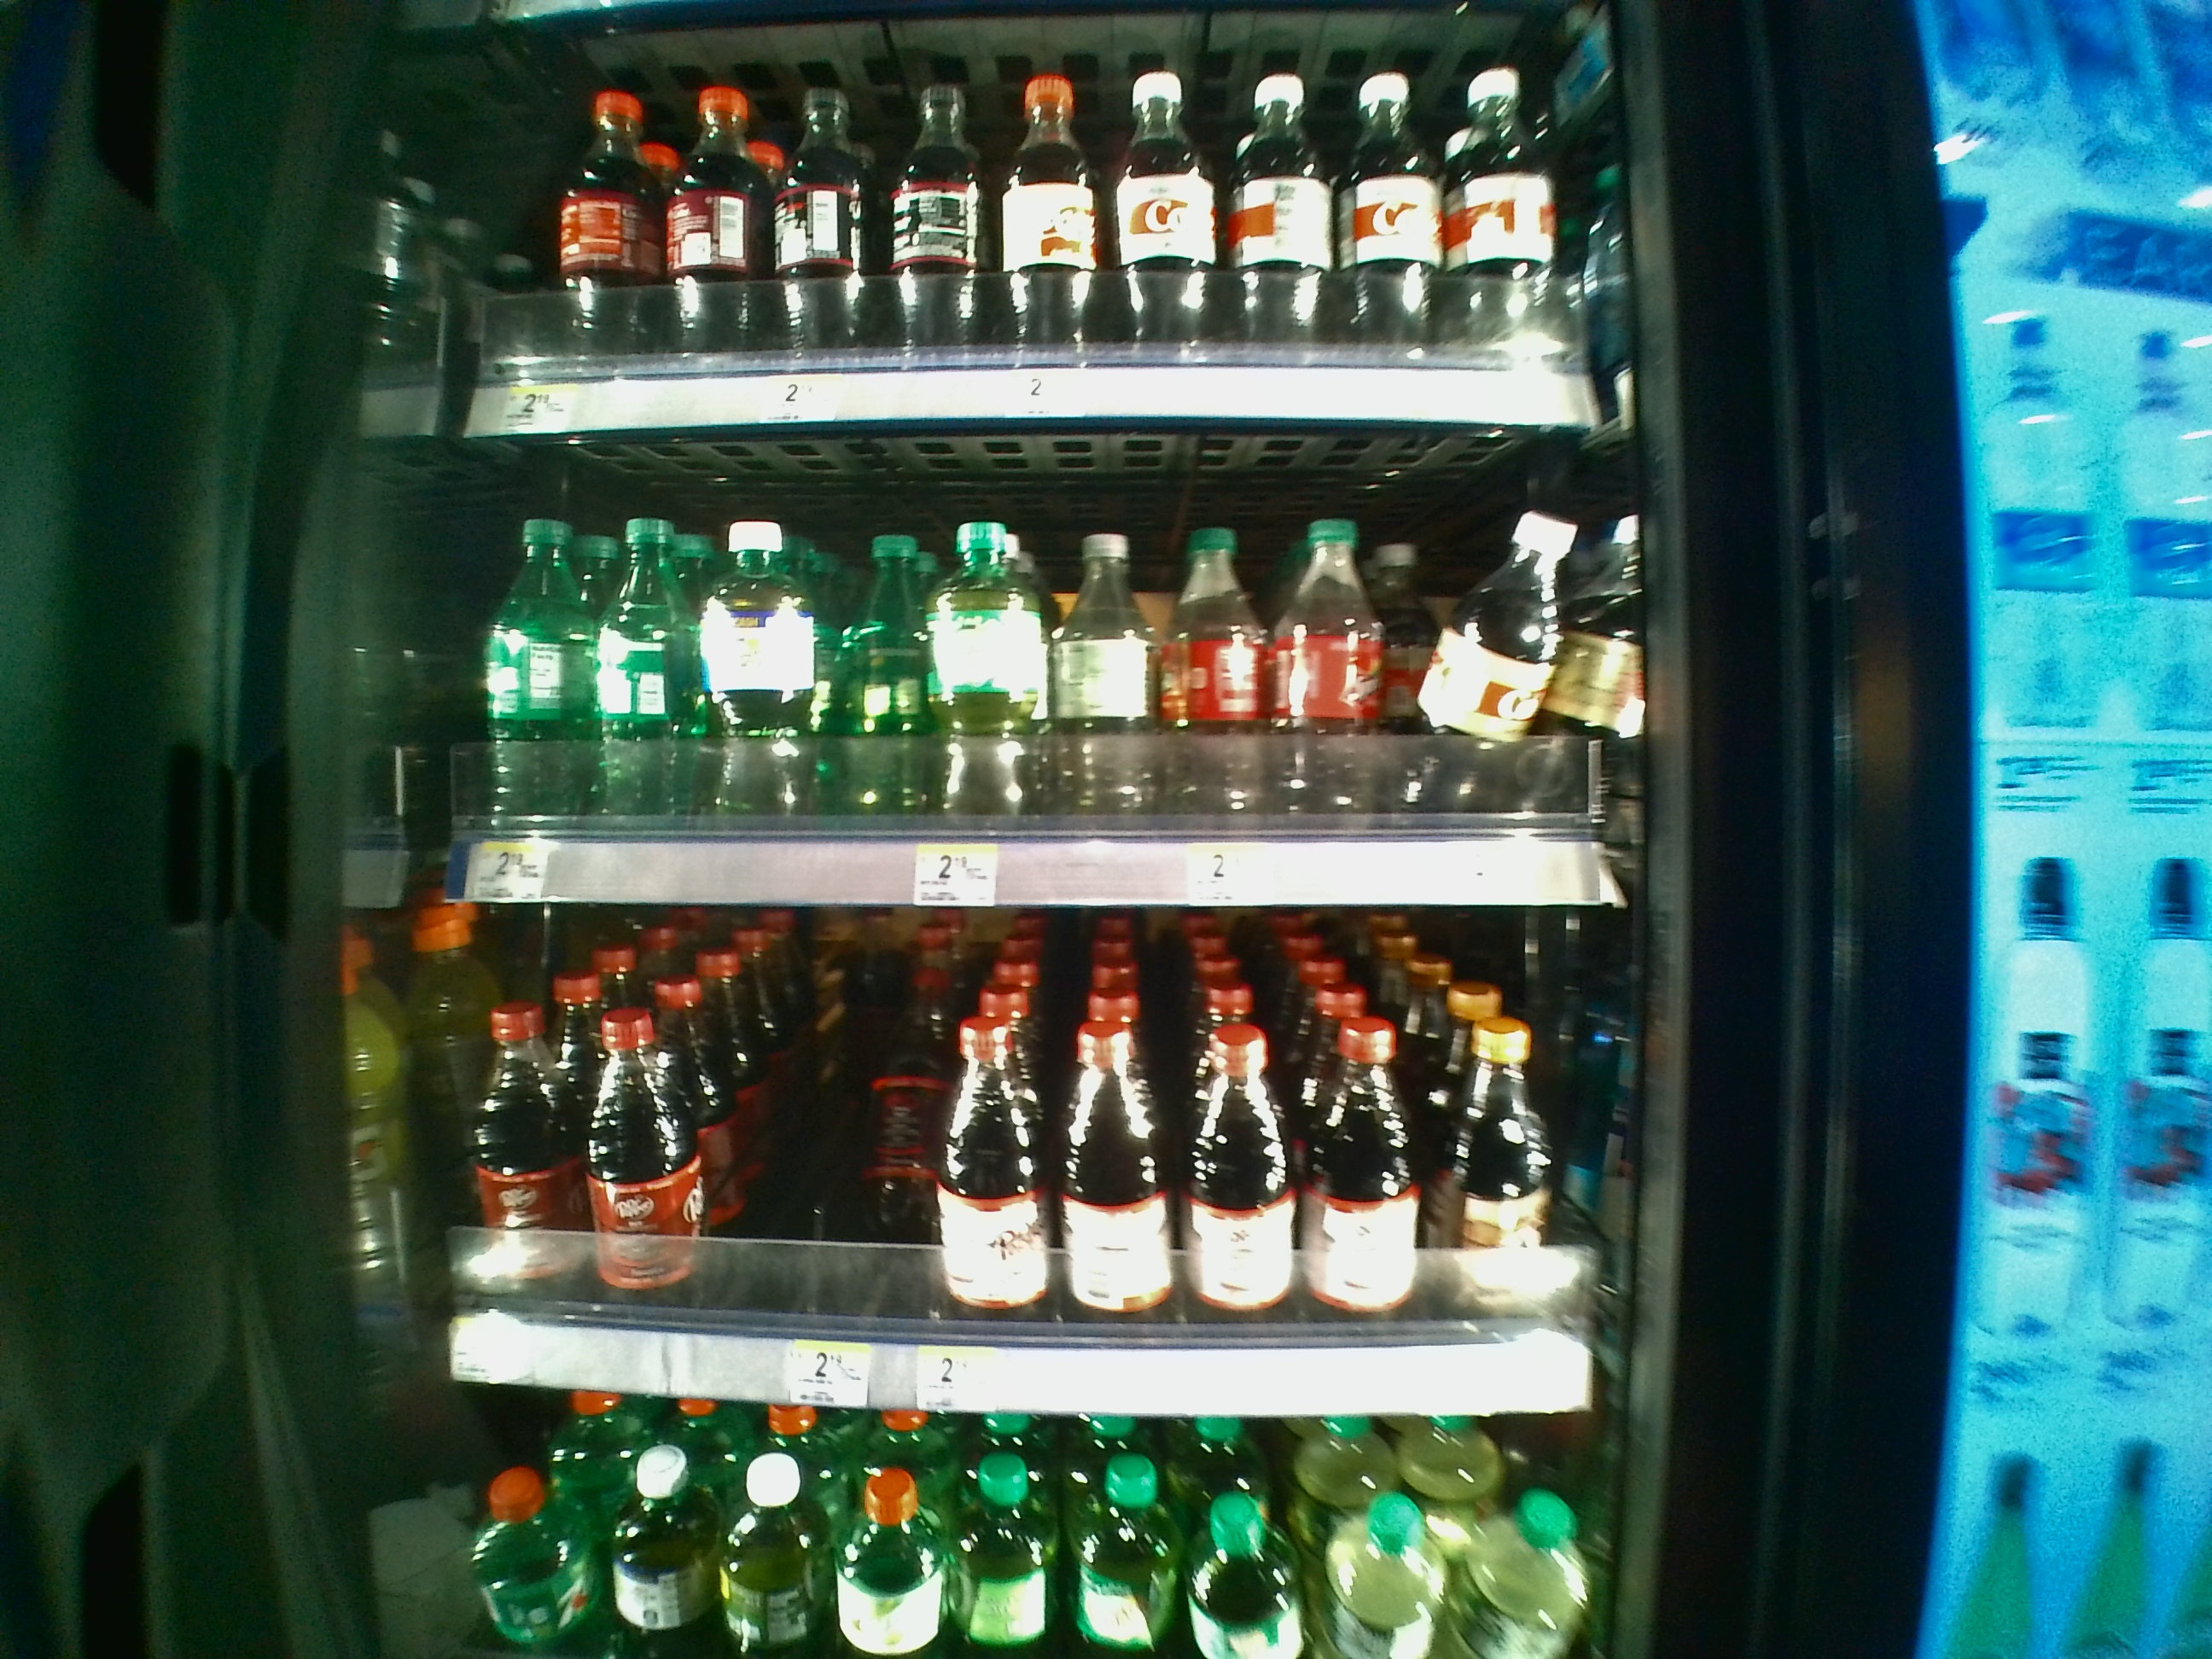Shelf: (435, 908, 1658, 1412), (435, 437, 1649, 910)
